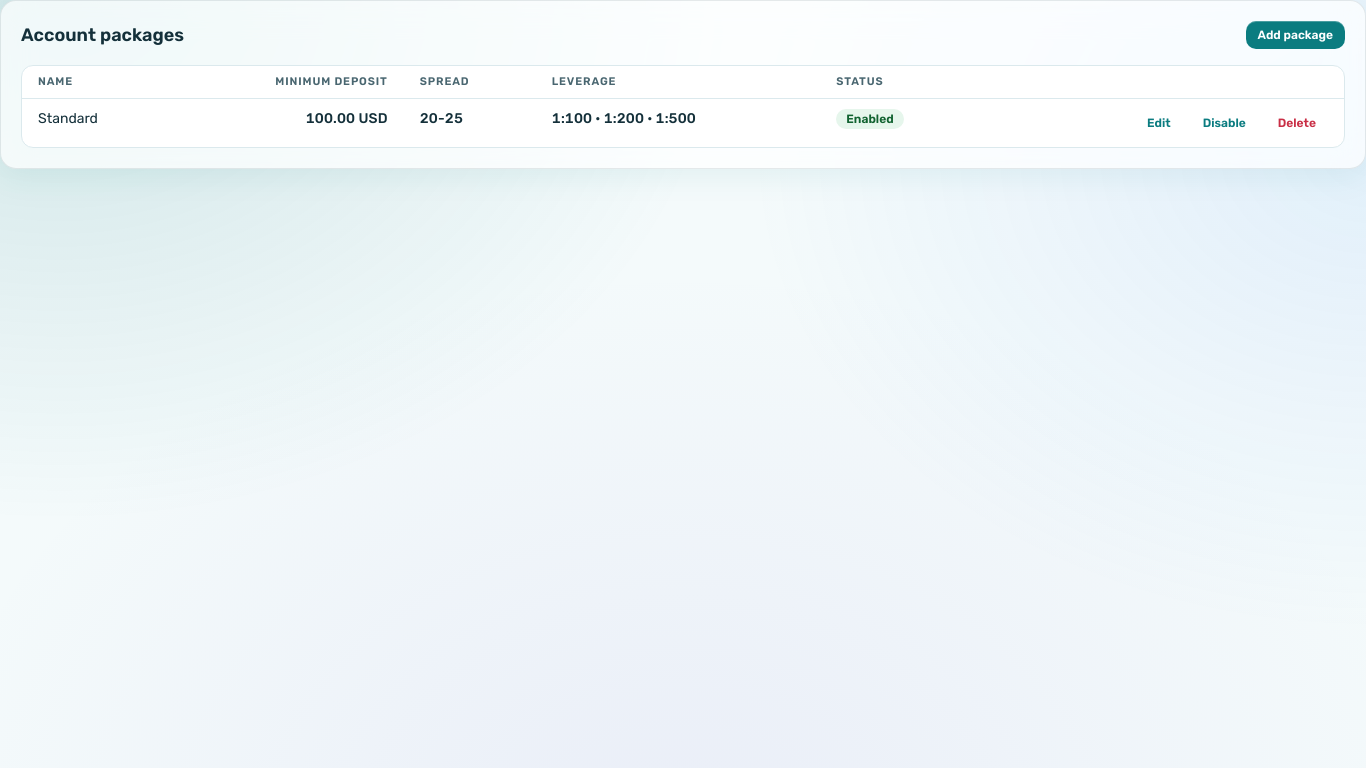
it: disables a package and refuses a delete the server refuses
This screenshot has width=1366, height=768.
Click the button with aria-label "Disable Standard" at (1224, 123), box [1191, 109, 1258, 137]
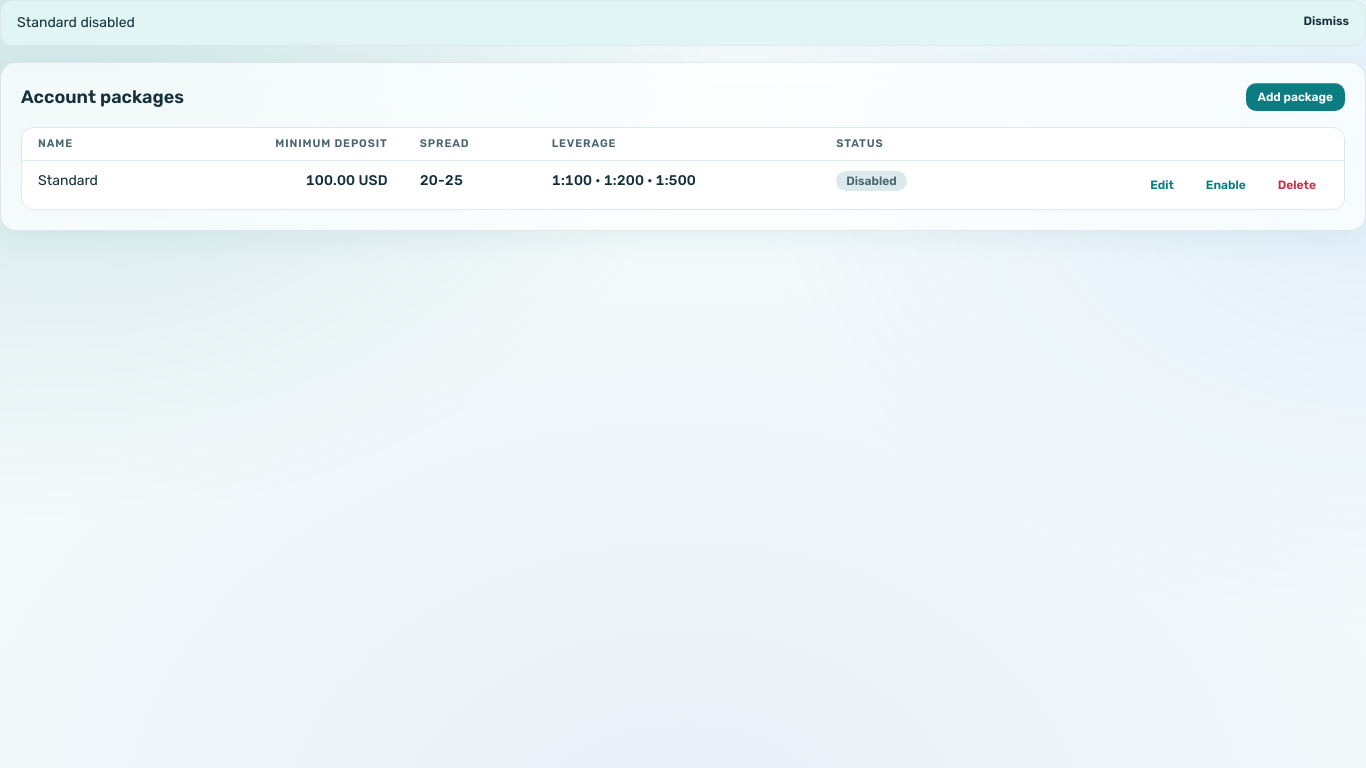
Expected: the text "Disabled" is shown, [836, 171, 907, 191]
Click the button with aria-label "Delete Standard" at (1297, 185), box [1266, 171, 1328, 199]
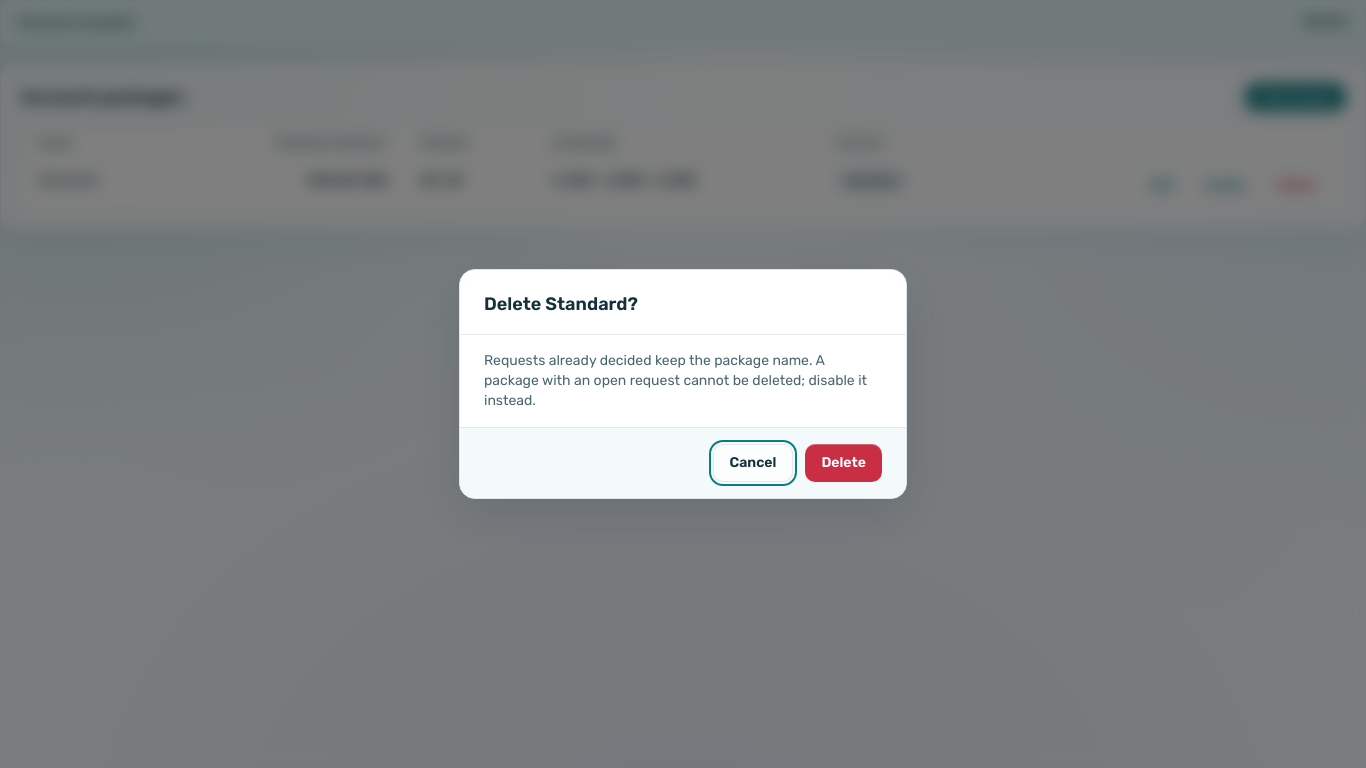
Click the button "Delete" at (844, 463), box [805, 444, 882, 482]
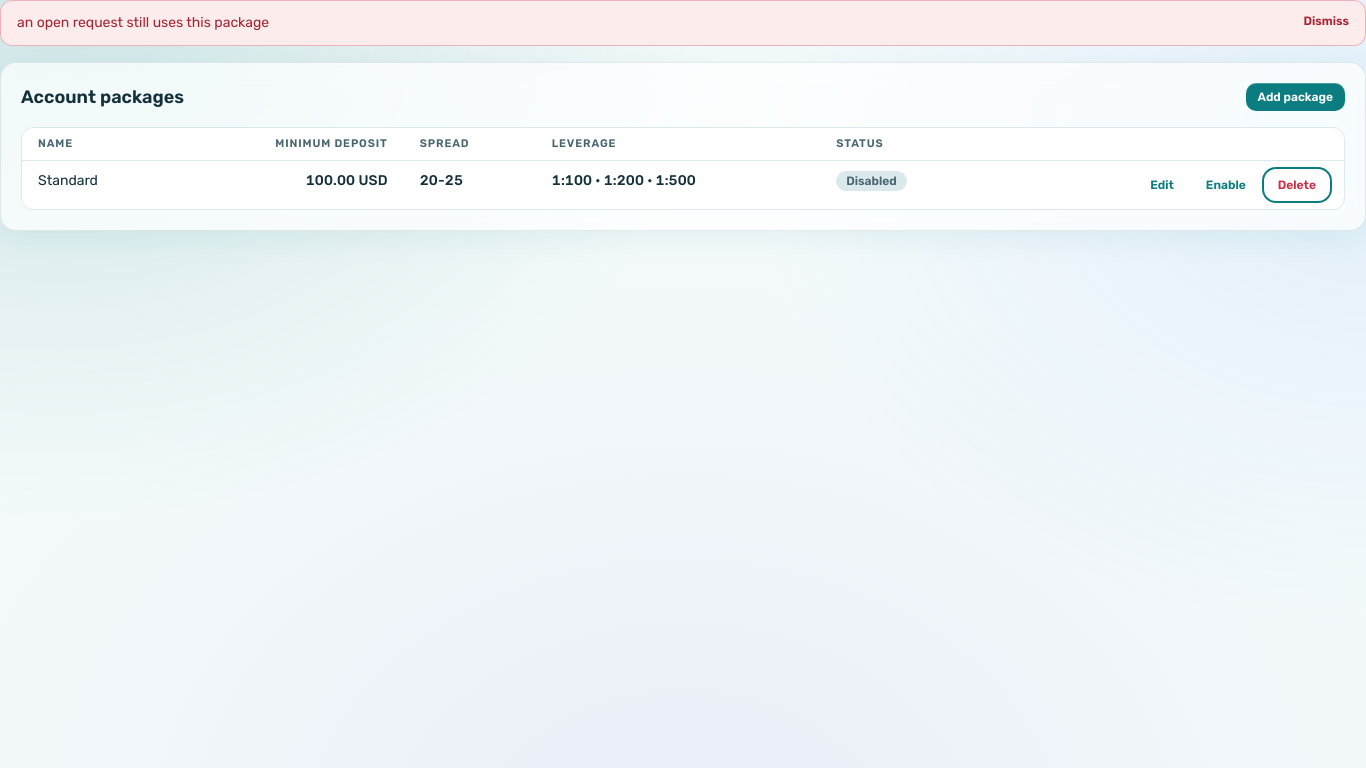
Expected: the text "an open request still uses this package" is shown, [17, 13, 269, 33]
Expected: the dialog is gone
